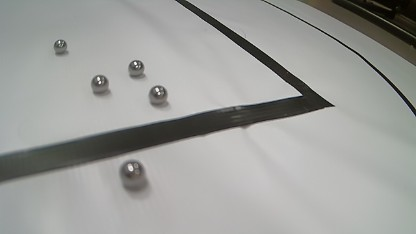ironball: (119, 160, 146, 189), (148, 85, 167, 104), (91, 74, 109, 92), (128, 60, 144, 76), (53, 39, 67, 53)
